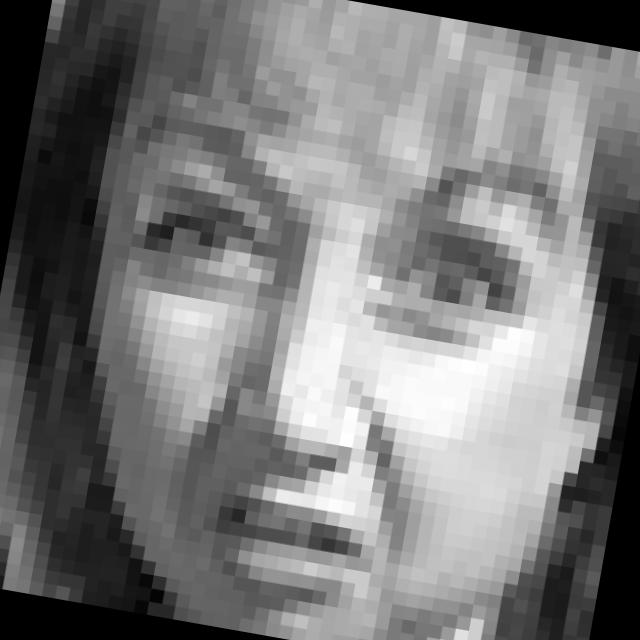disgust: (51, 101, 568, 640)
